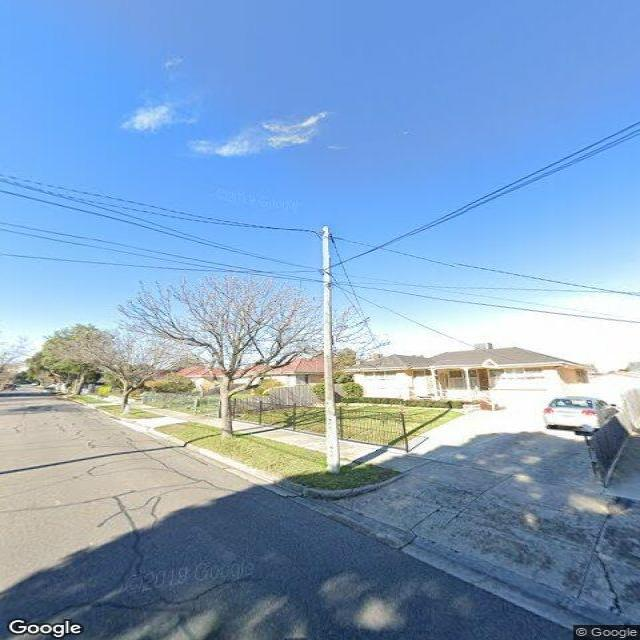timber-pole: (322, 225, 341, 475)
